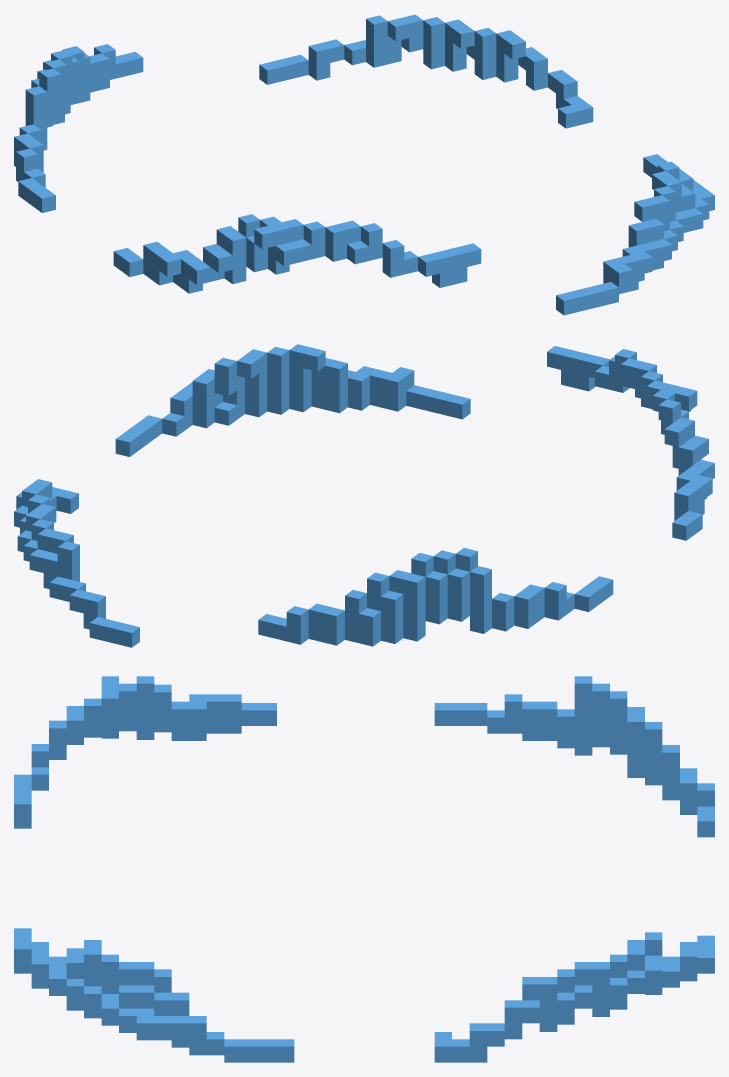
The model's file is Gigante_Azul#5eb2f5.dae.
The picture shows the model from 3 angles, top to bottom: view 1: azimuth 30°, elevation 25°; view 2: azimuth 150°, elevation 25°; view 3: azimuth 270°, elevation 25°; orthographic projection. The views are drawn at different scales.
Visible parts, largest first — view 1: Gigante_Azul#5eb2f5.vox; view 2: Gigante_Azul#5eb2f5.vox; view 3: Gigante_Azul#5eb2f5.vox.
Part boxes in pixels (left/top/right/bottom): Gigante_Azul#5eb2f5.vox: left=14, top=14, right=714, bottom=315; Gigante_Azul#5eb2f5.vox: left=14, top=344, right=714, bottom=647; Gigante_Azul#5eb2f5.vox: left=14, top=676, right=714, bottom=1062.
Size of the model in its own units: 4 by 4 by 0.8.
